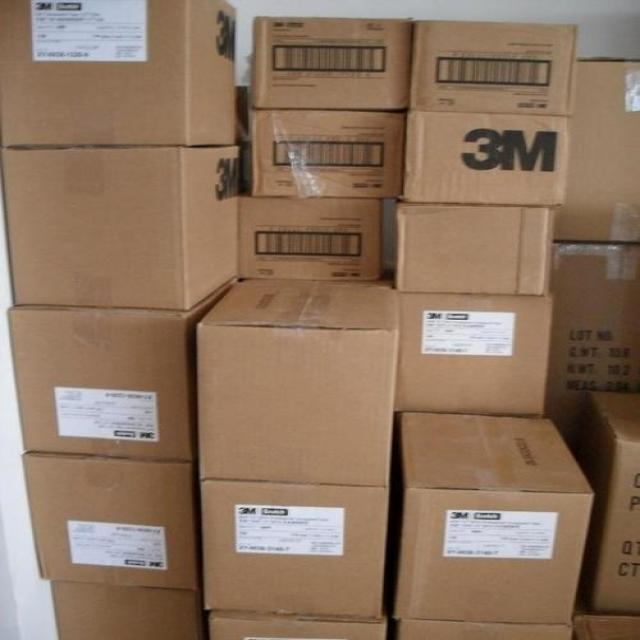box: (387, 410, 599, 623), (199, 277, 402, 486), (10, 279, 244, 460), (1, 141, 240, 308), (0, 0, 240, 147), (199, 477, 386, 619), (24, 455, 198, 590), (547, 241, 639, 451), (396, 294, 549, 419), (410, 18, 574, 119), (247, 15, 416, 112), (551, 57, 639, 240), (399, 109, 566, 204), (574, 387, 639, 614), (247, 108, 406, 199), (397, 203, 551, 293), (239, 196, 381, 280), (48, 581, 204, 639), (196, 611, 385, 637), (397, 615, 574, 639), (571, 613, 639, 637)
